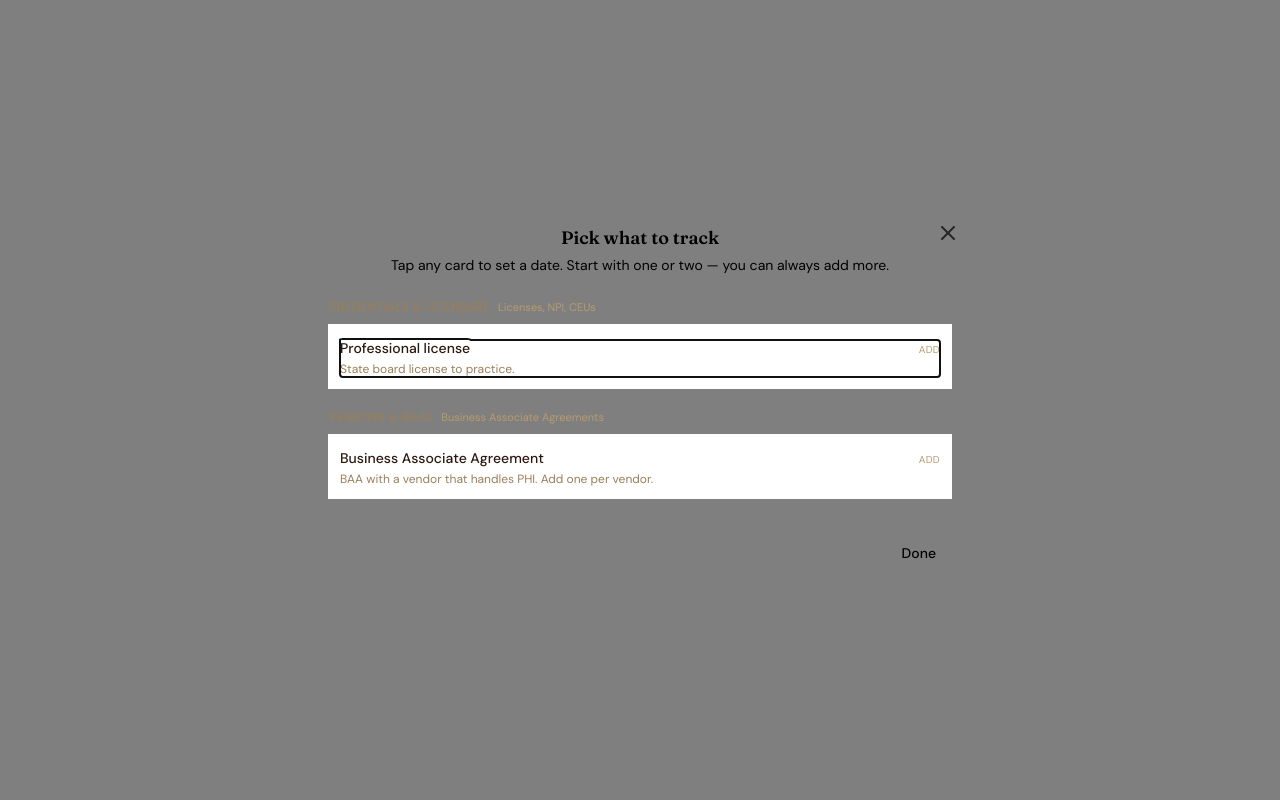
Scenario: ReminderComposer › edit flow › Back returns to the browse view without saving
Click the text "Professional license".
click(405, 348)  # box [340,338,470,356]
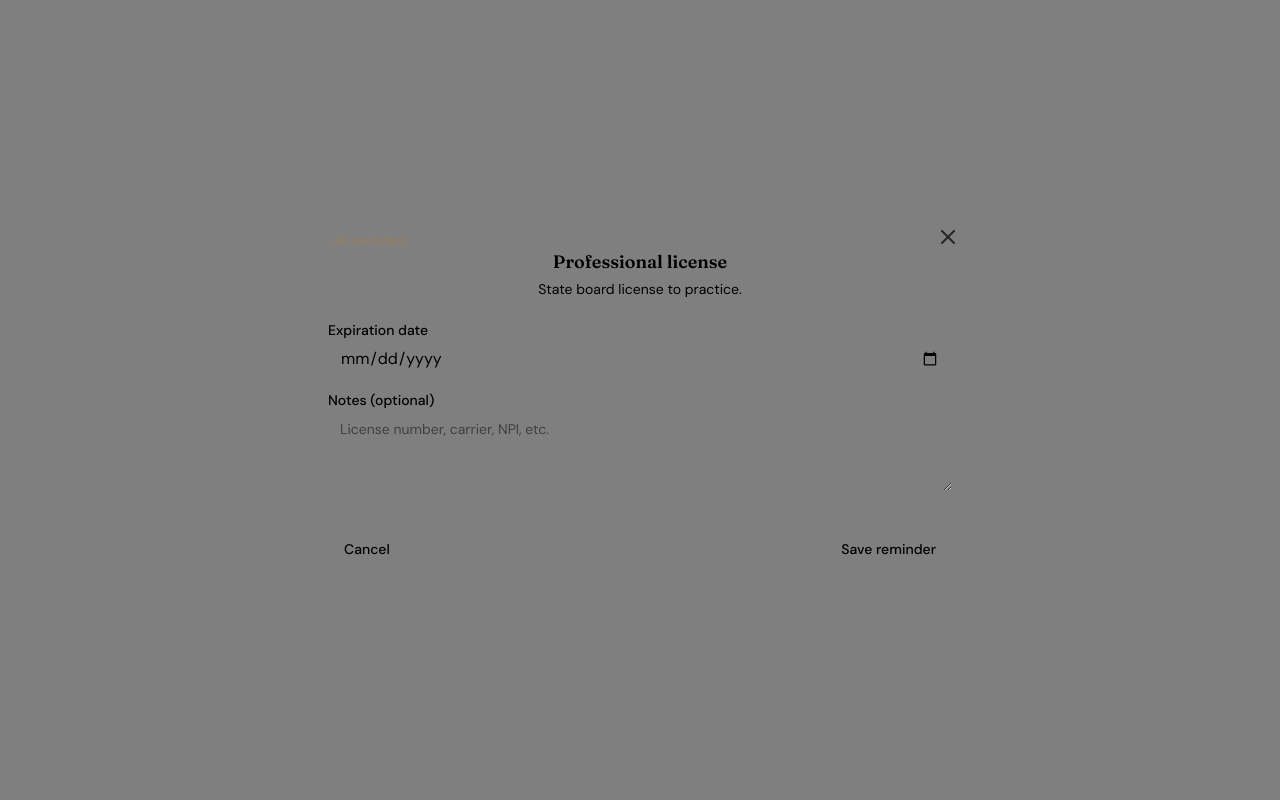
Check: the button "‹ All reminders" is shown
Click the button "‹ All reminders".
click(368, 241)  # box [328,233,407,249]
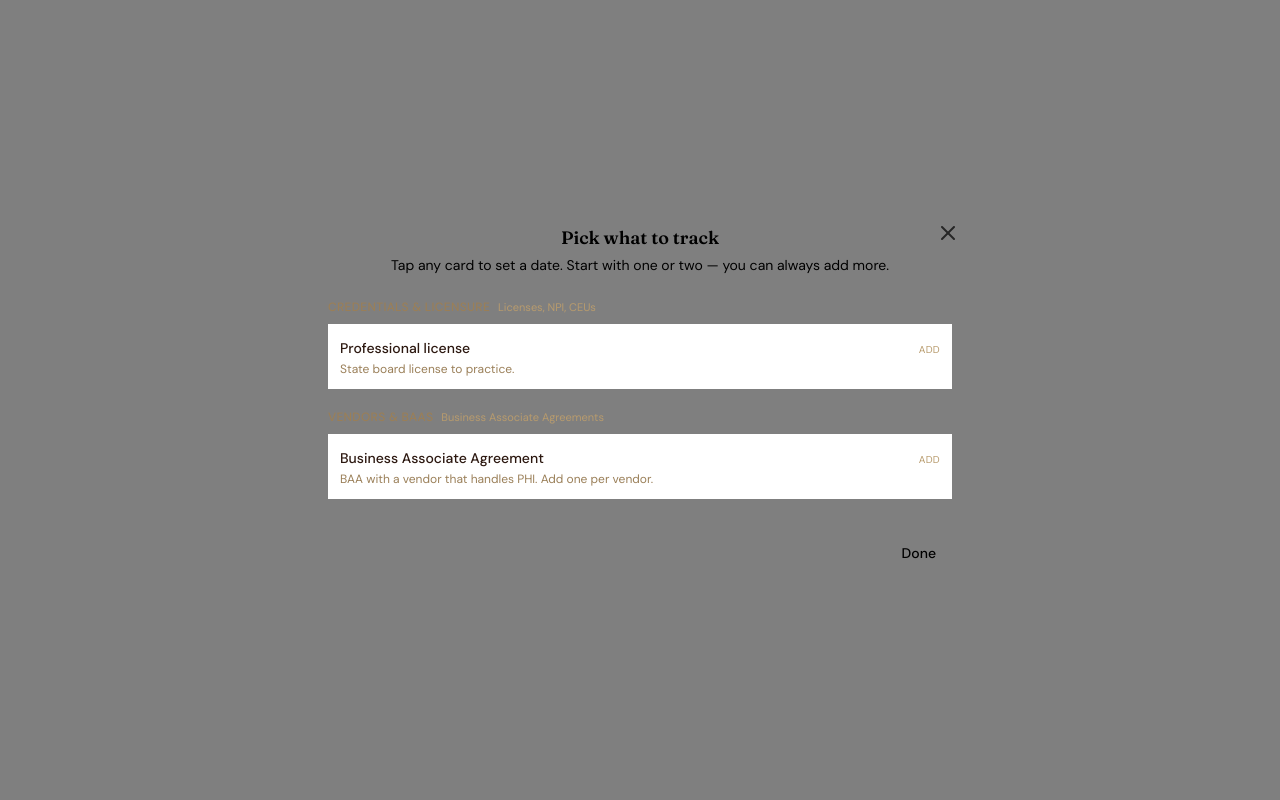
Check: the heading "Pick what to track" is shown, box [561,226,719,249]
Check: the text "Business Associate Agreement" is shown, box [340,448,544,466]
